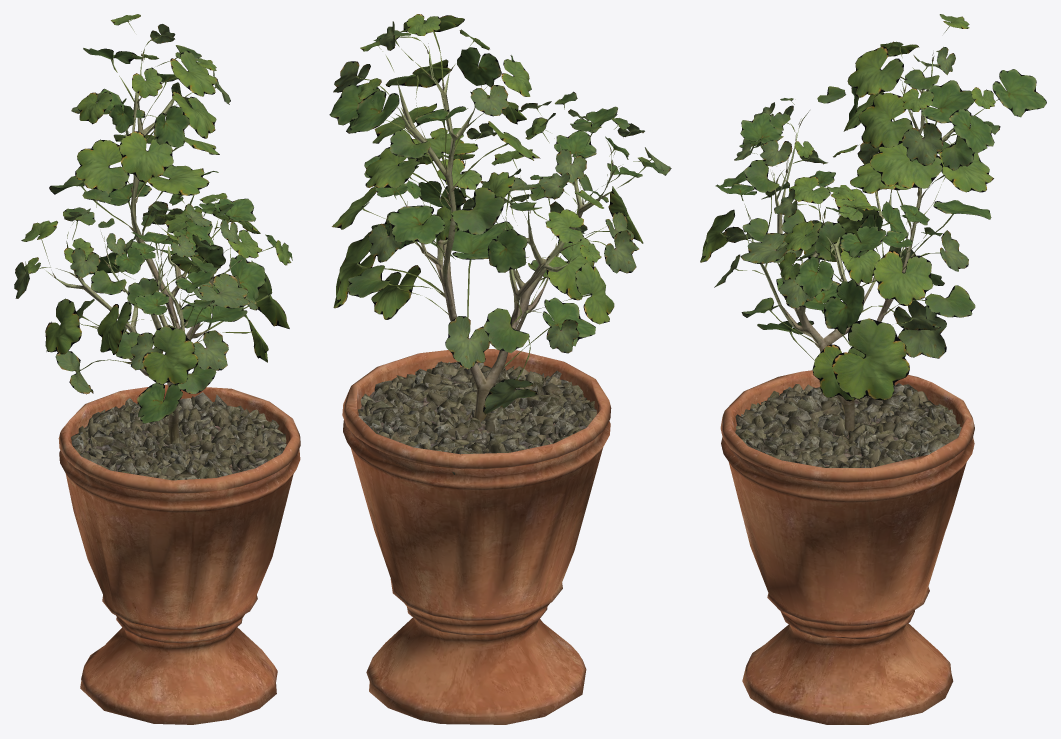
The model's file is plant.glb.
3 renders of one model, left to right at view 1: azimuth 30°, elevation 25°; view 2: azimuth 150°, elevation 25°; view 3: azimuth 270°, elevation 25°, orthographic. The views are drawn at different scales.
Parts seen in each view (by area): view 1: potted_plant_01_pot, potted_plant_01_leaves, potted_plant_01_pebbles, potted_plant_01_stem; view 2: potted_plant_01_pot, potted_plant_01_leaves, potted_plant_01_pebbles, potted_plant_01_stem; view 3: potted_plant_01_pot, potted_plant_01_leaves, potted_plant_01_pebbles, potted_plant_01_stem.
Part boxes in pixels (box(x1,y1,x2,y2)): potted_plant_01_pot: box(58, 384, 300, 724); potted_plant_01_leaves: box(14, 14, 292, 423); potted_plant_01_pebbles: box(67, 392, 286, 480); potted_plant_01_stem: box(54, 56, 239, 443); potted_plant_01_pot: box(342, 348, 611, 724); potted_plant_01_leaves: box(329, 14, 671, 414); potted_plant_01_pebbles: box(358, 361, 596, 474); potted_plant_01_stem: box(397, 48, 611, 422); potted_plant_01_pot: box(720, 370, 974, 724); potted_plant_01_leaves: box(700, 14, 1046, 401); potted_plant_01_pebbles: box(735, 383, 961, 487); potted_plant_01_stem: box(751, 57, 966, 434).
Size of the model in its own units: 0.5866 by 1.34 by 0.6336.
Materials: 2 (2 with a texture image).
